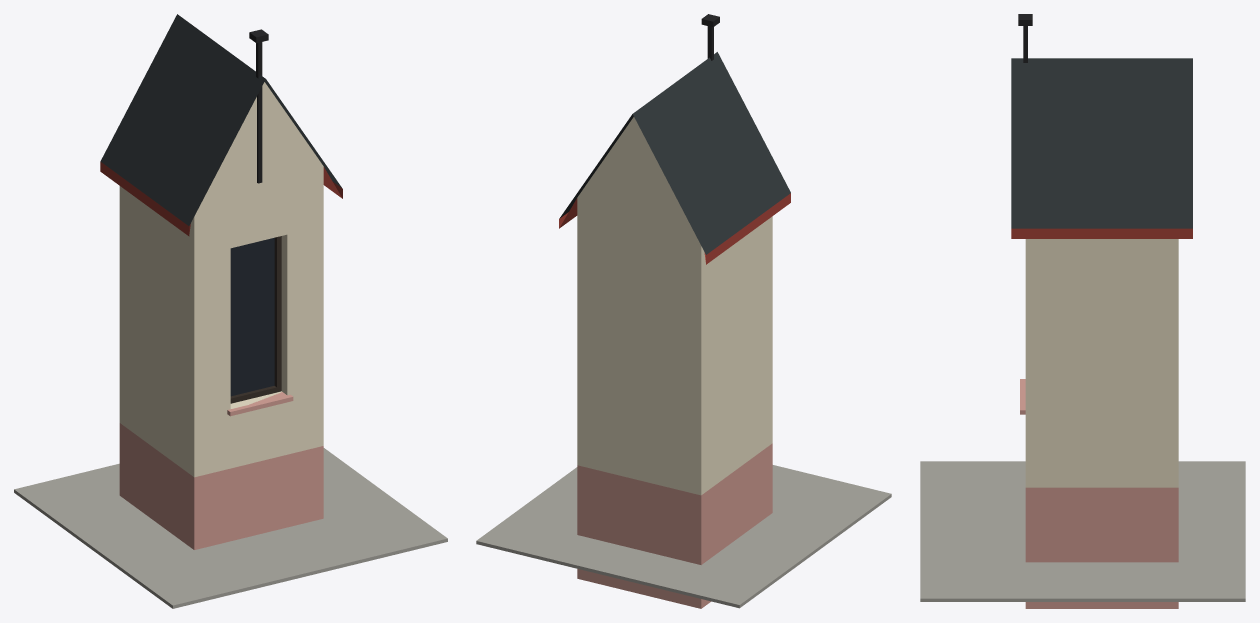
File: shrine-kolodvorska.glb
3 views of the same model, side by side, from view 1: azimuth 30°, elevation 25°; view 2: azimuth 150°, elevation 25°; view 3: azimuth 270°, elevation 25° (orthographic). The views are drawn at different scales.
Parts seen in each view (by area): view 1: Shrine Kolodvorska; view 2: Shrine Kolodvorska; view 3: Shrine Kolodvorska.
Part boxes in pixels (box(x1,y1,x2,y2)): Shrine Kolodvorska: box(14, 14, 447, 608); Shrine Kolodvorska: box(476, 14, 891, 608); Shrine Kolodvorska: box(920, 14, 1245, 608).
Bounding box in the file's own units: 3.4 × 6.46 × 3.4.
